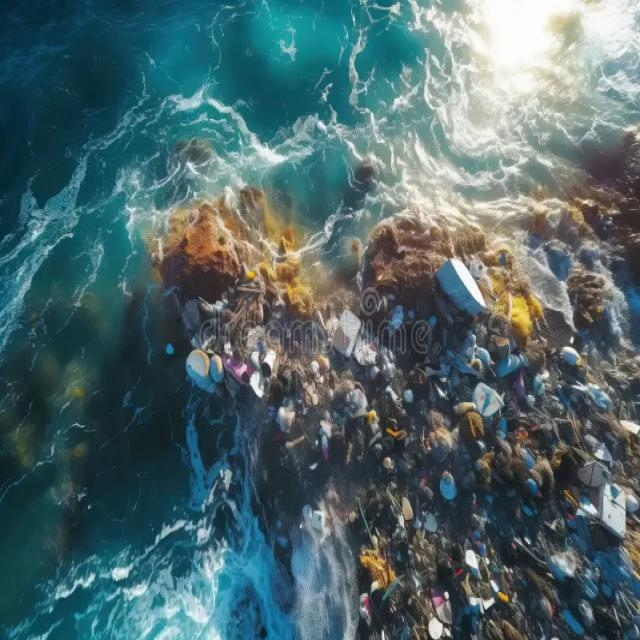plastic watse: (184, 241, 639, 638)
